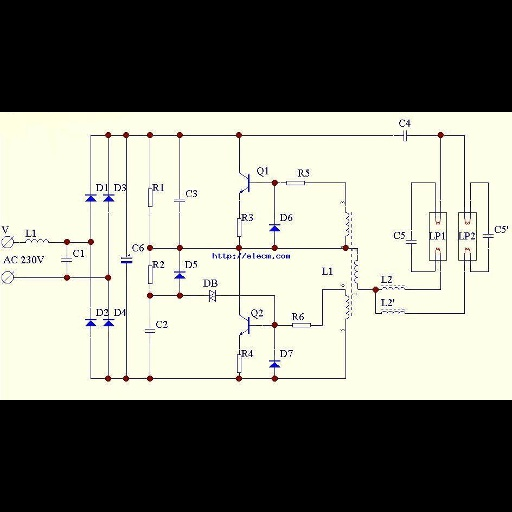capacitor: (398, 128, 413, 144), (141, 326, 157, 337), (56, 255, 73, 265), (403, 237, 418, 247), (171, 196, 187, 205), (482, 231, 495, 241)
firstdiode: (82, 191, 98, 206), (266, 221, 283, 235), (266, 357, 283, 370), (82, 317, 98, 329), (101, 192, 115, 205), (172, 270, 187, 281), (102, 318, 116, 328)
firstresistance: (143, 263, 154, 288), (291, 321, 314, 331), (144, 187, 154, 209), (234, 216, 243, 240), (284, 179, 307, 187), (235, 353, 243, 374)
inductor: (341, 291, 351, 323), (342, 208, 351, 242), (376, 309, 409, 318), (22, 237, 52, 245), (377, 285, 407, 293), (353, 256, 360, 289)
npn: (235, 312, 253, 340)
pnp: (236, 170, 253, 199)
